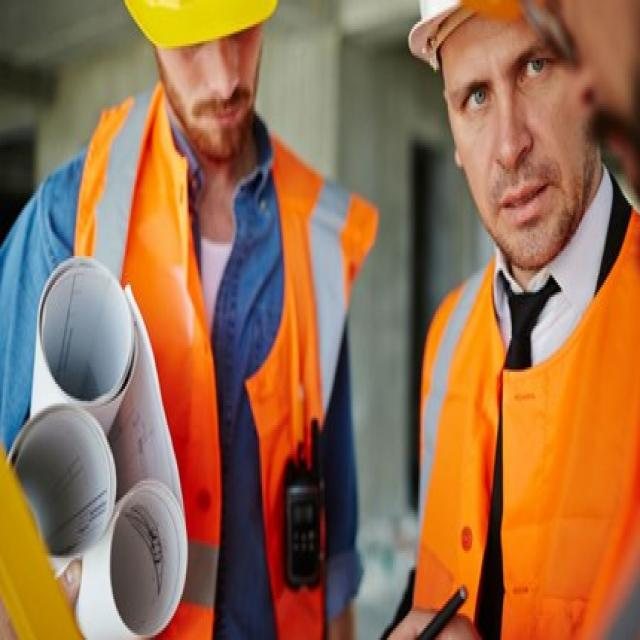Reflective-Jacket: (68, 102, 370, 635), (417, 225, 634, 628)
Safety-Helmet: (404, 0, 638, 65), (114, 0, 280, 56)
